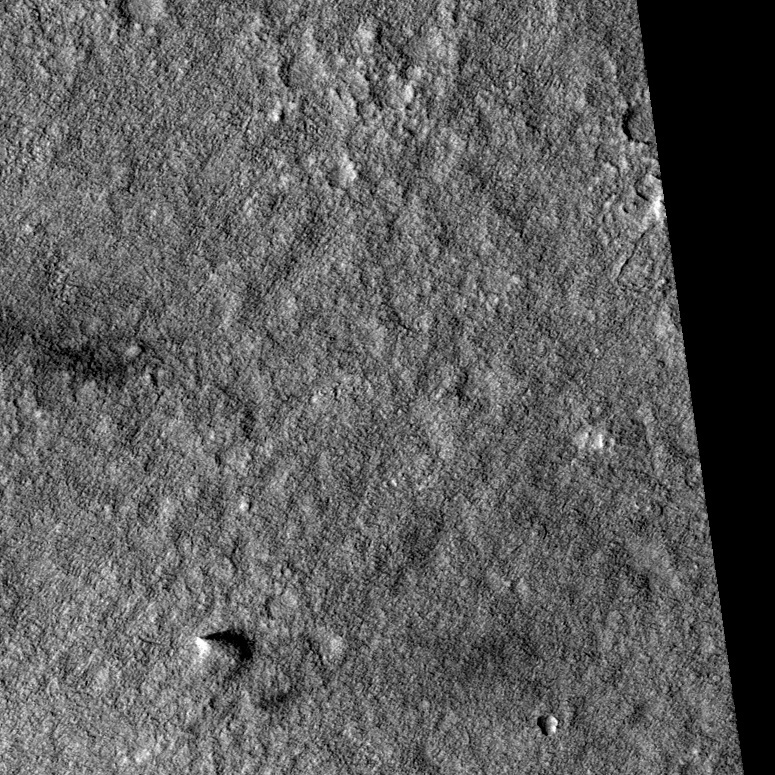dust_devil: (194, 626, 256, 668)
